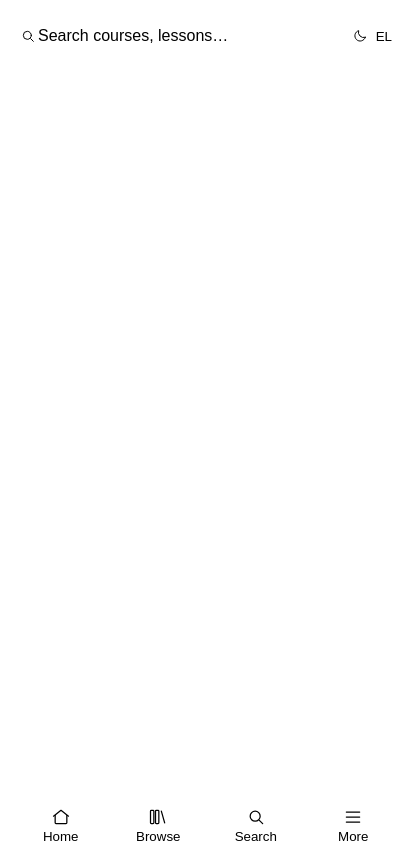
Scenario: AppNavigationShell › mobile nav overflow (#568) › opens the overflow dialog and exposes every admin nav item when "More" is clicked
What coordinates should you click on to do the following:
click the button with class "app-navigation-shell__tab-item" showing "More"
I would click on:
 (353, 826)
Its box is [304,807,402,843].
(page scrolled)
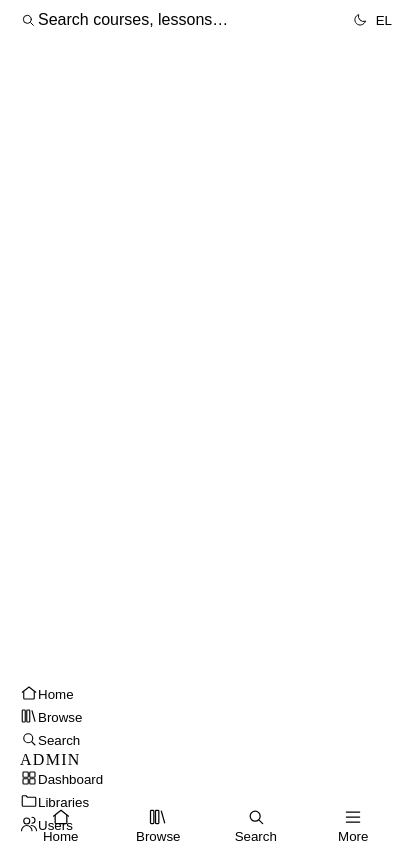
Check: the element with test id "mobile-nav-dialog" is shown, box [20,684,394,836]
Check: the element with test id "mobile-nav-dialog" shows "Dashboard", box [20,769,394,790]
Check: the element with test id "mobile-nav-dialog" shows "Libraries", box [20,792,394,813]
